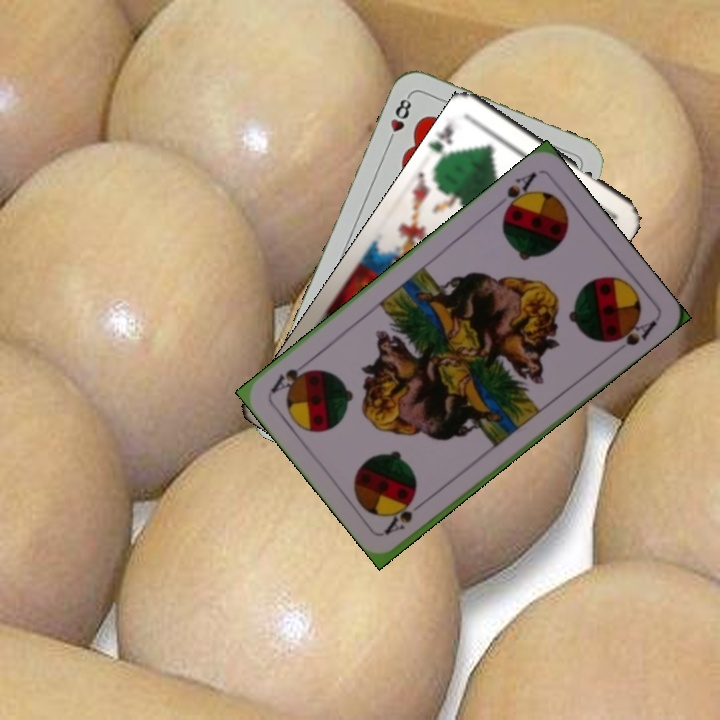GK: (426, 118, 456, 166)
H8: (383, 91, 415, 147)
SA: (381, 494, 431, 537), (499, 167, 540, 218)
